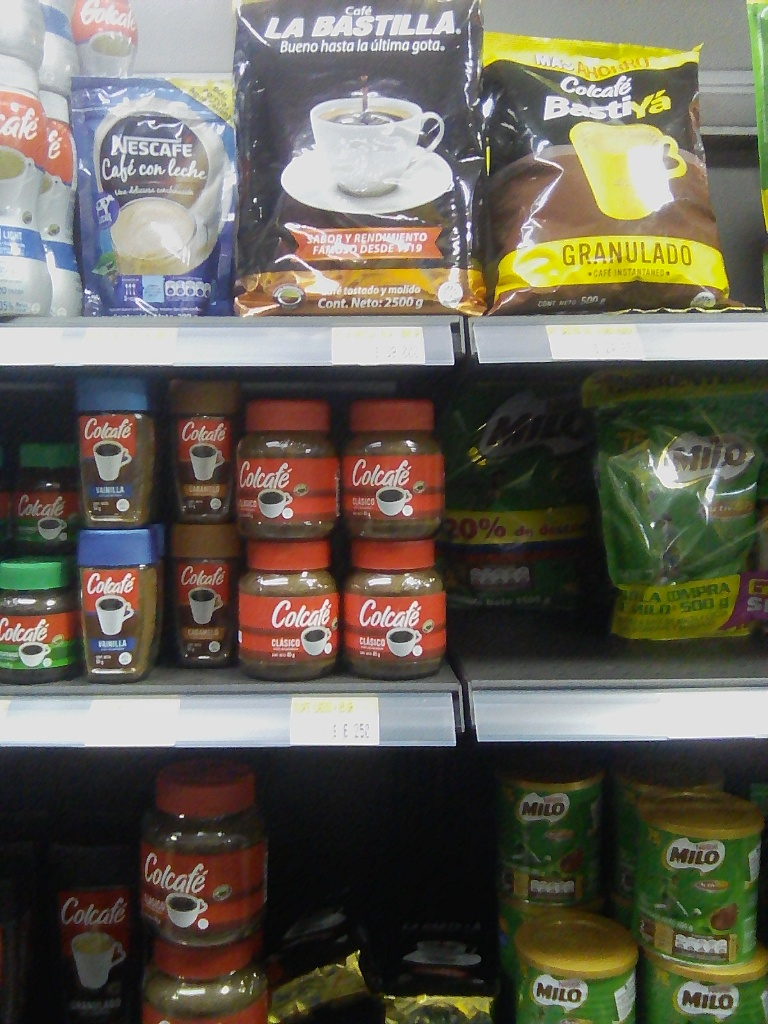COL0170203LAT40000: (646, 948, 767, 1023)
